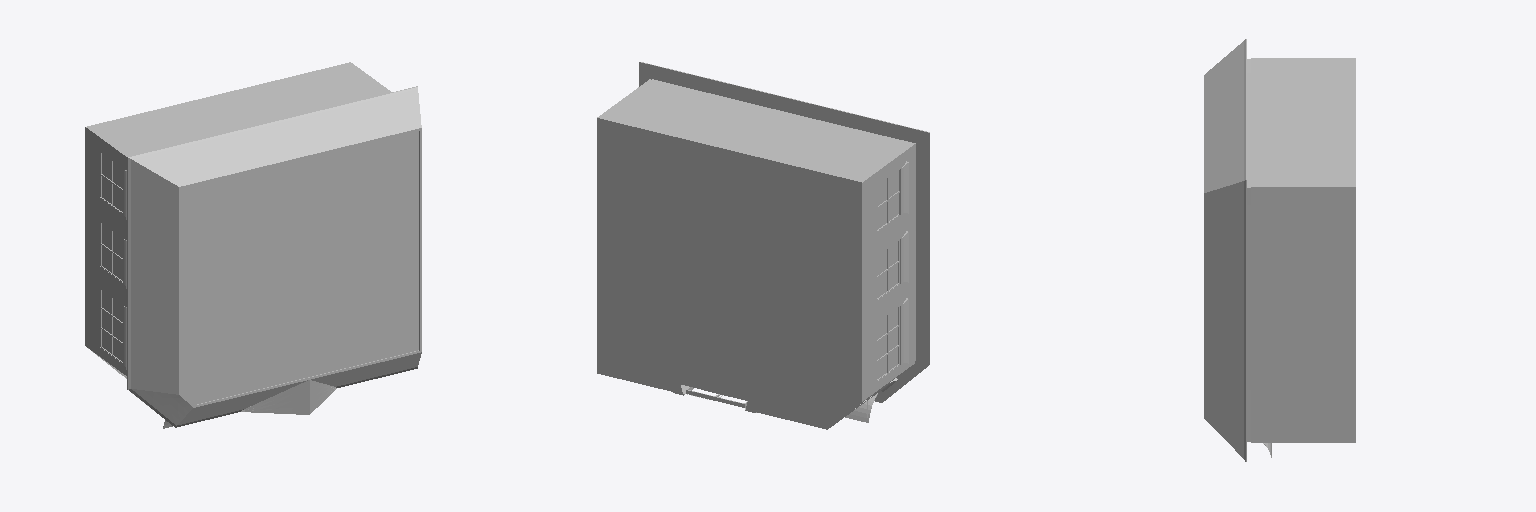
The model's file is 10065_Corner Grocery Store_V2_L3.obj.
3 views of the same model, side by side, from view 1: azimuth 30°, elevation 25°; view 2: azimuth 150°, elevation 25°; view 3: azimuth 270°, elevation 25° (orthographic).
Visible parts, largest first — view 1: 10065_Corner_Grocery_Store_V2_L3; view 2: 10065_Corner_Grocery_Store_V2_L3; view 3: 10065_Corner_Grocery_Store_V2_L3.
Boxes of the visible parts, x1=… form: 10065_Corner_Grocery_Store_V2_L3: x1=85, y1=62, x2=421, y2=428; 10065_Corner_Grocery_Store_V2_L3: x1=597, y1=62, x2=929, y2=429; 10065_Corner_Grocery_Store_V2_L3: x1=1204, y1=39, x2=1355, y2=461.
Size of the model in its own units: 1131 by 1089 by 513.